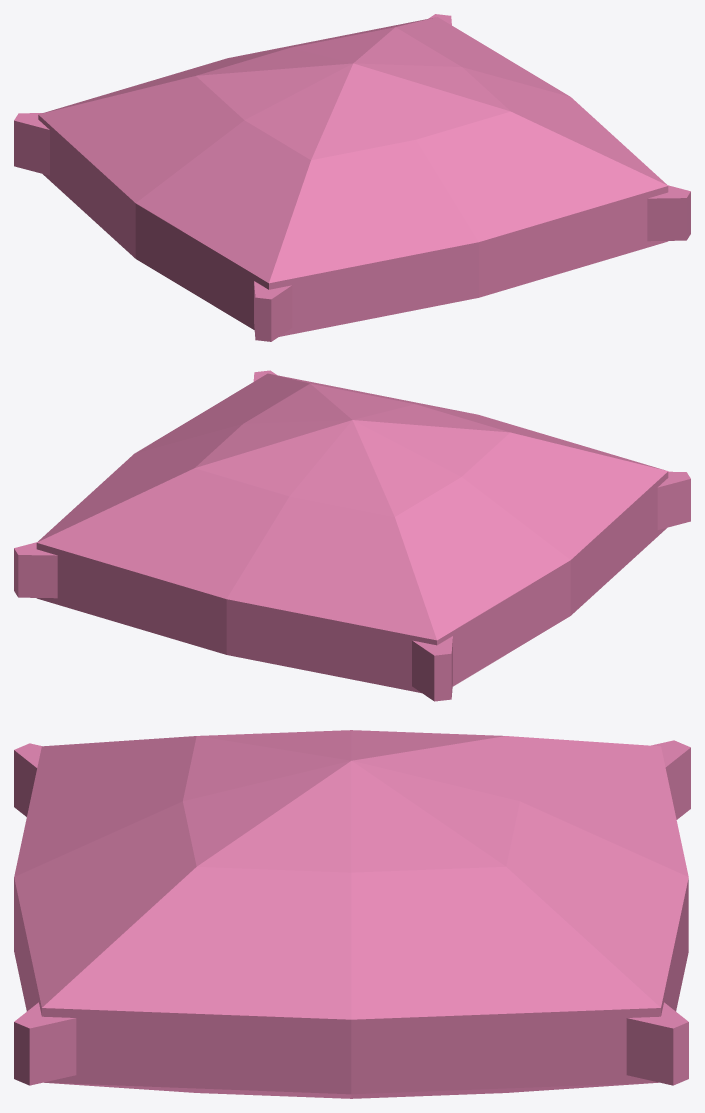
The model's file is area1_pillow.glb.
The picture shows the model from 3 angles, top to bottom: view 1: azimuth 30°, elevation 25°; view 2: azimuth 150°, elevation 25°; view 3: azimuth 270°, elevation 25°; orthographic projection. The views are drawn at different scales.
Parts seen in each view (by area): view 1: Cube.003; view 2: Cube.003; view 3: Cube.003.
Part boxes in pixels (x1,y1,x2,y2): Cube.003: (14,14,690,341); Cube.003: (14,370,690,701); Cube.003: (14,730,690,1098).
Bounding box in the file's own units: 39.03 × 19.56 × 39.03.
